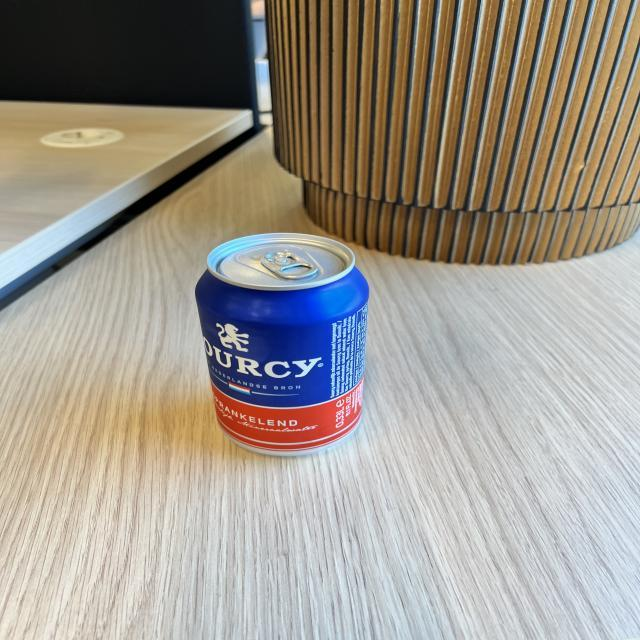kimloai: (196, 232, 369, 454)
